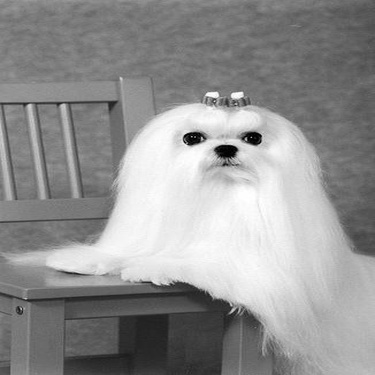dog: (1, 81, 370, 371)
